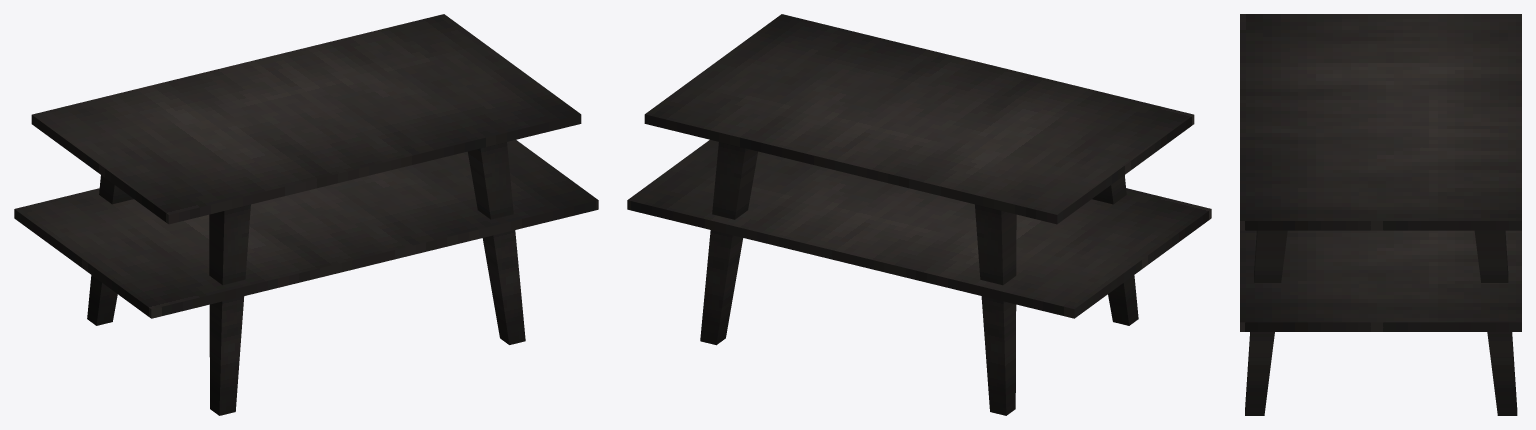
The model's file is TVStand.fbx.
3 views of the same model, side by side, from view 1: azimuth 30°, elevation 25°; view 2: azimuth 150°, elevation 25°; view 3: azimuth 270°, elevation 25° (orthographic). The views are drawn at different scales.
Parts seen in each view (by area): view 1: TVStand; view 2: TVStand; view 3: TVStand.
Boxes of the visible parts, left/top/right/bottom form: TVStand: left=14, top=14, right=598, bottom=415; TVStand: left=627, top=14, right=1211, bottom=415; TVStand: left=1240, top=14, right=1521, bottom=415.
Size of the model in its own units: 0.9871 by 0.455 by 0.5242.
Materials: 1 (1 with a texture image).
